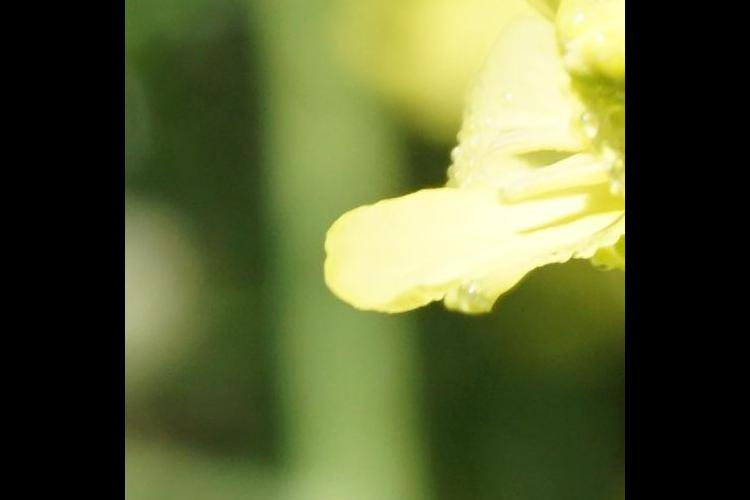yellow: (330, 1, 622, 333)
